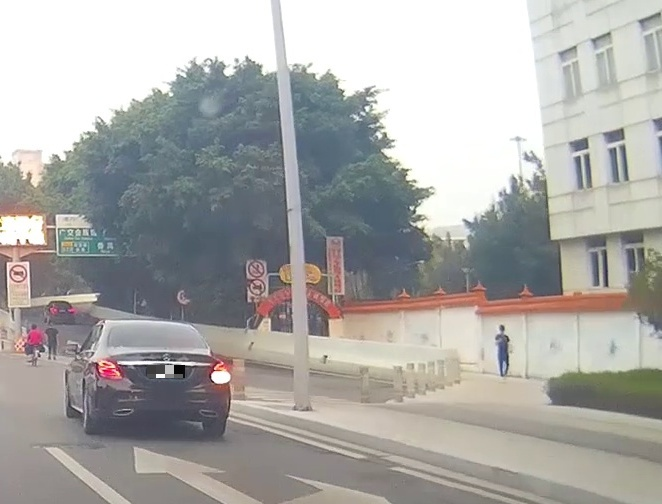L_light: (95, 354, 122, 378)
R_light: (210, 361, 230, 384)
T_light: (145, 325, 167, 330)
day-right: (90, 320, 231, 438)
plate_1: (147, 365, 185, 378)
